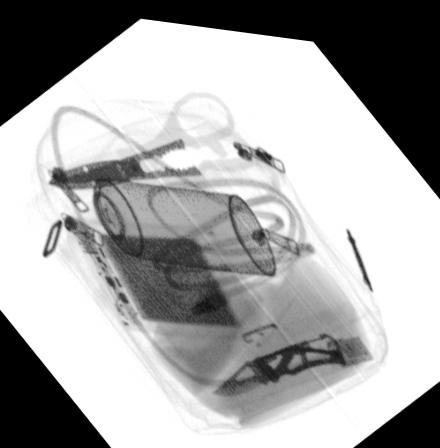Knife: (211, 321, 348, 391)
Powerbank: (59, 213, 263, 324)
Scissors: (44, 86, 279, 200)
Sprayer: (61, 172, 276, 268)
